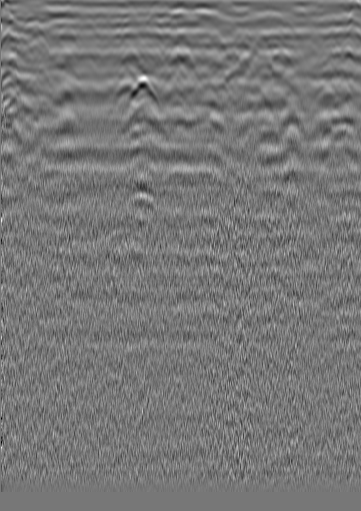가스: (125, 182, 161, 217)
상수: (299, 29, 319, 49)
오수: (28, 29, 48, 49)
우수: (174, 31, 194, 51)
